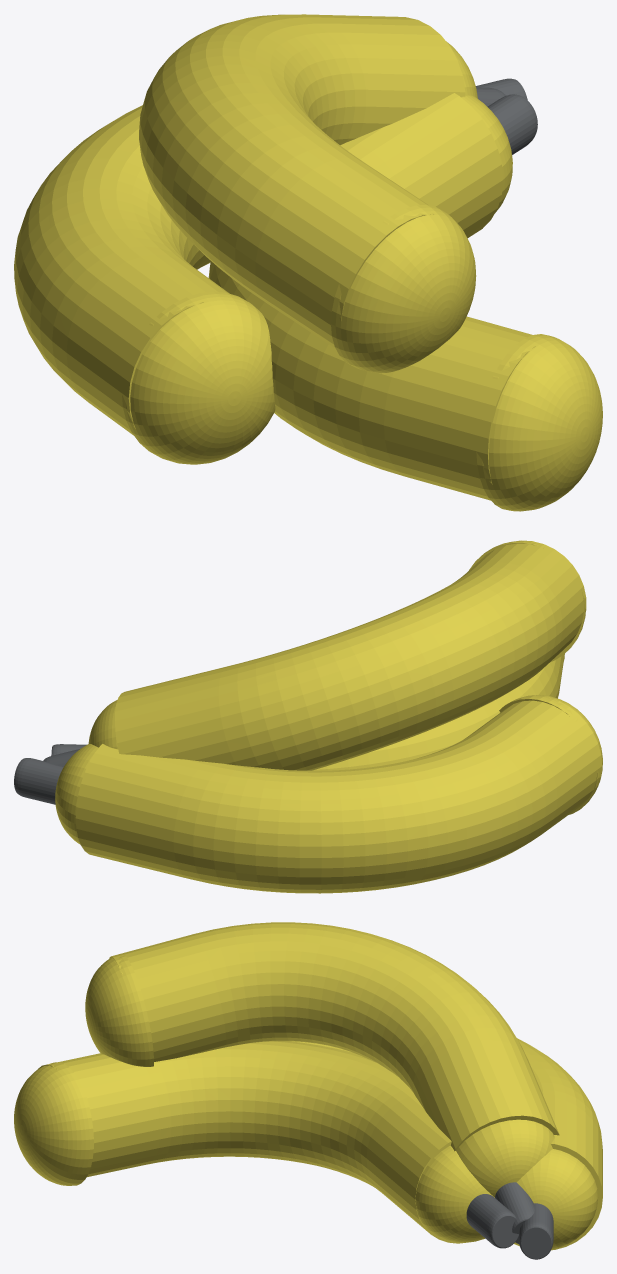
The model's file is asset.glb.
3 renders of one model, top to bottom at view 1: azimuth 30°, elevation 25°; view 2: azimuth 150°, elevation 25°; view 3: azimuth 270°, elevation 25°, orthographic. The views are drawn at different scales.
Visible parts, largest first — view 1: Mesh_Mesh_head_geo.001_lambert2SG.001; view 2: Mesh_Mesh_head_geo.001_lambert2SG.001; view 3: Mesh_Mesh_head_geo.001_lambert2SG.001.
Boxes of the visible parts, x1=… form: Mesh_Mesh_head_geo.001_lambert2SG.001: x1=14, y1=14, x2=602, y2=511; Mesh_Mesh_head_geo.001_lambert2SG.001: x1=14, y1=540, x2=602, y2=893; Mesh_Mesh_head_geo.001_lambert2SG.001: x1=14, y1=922, x2=602, y2=1259.
Bounding box in the file's own units: 97 × 48.81 × 119.
